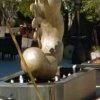Statue: (12, 1, 78, 78)
